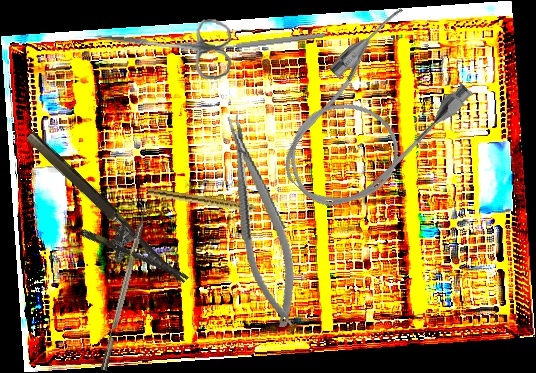Cannula: (254, 0, 483, 232)
Chopper: (91, 200, 152, 372)
Handpiece: (146, 187, 269, 217)
Iris Scissors: (91, 9, 236, 81)
Needle Holder: (4, 128, 190, 310), (216, 109, 307, 332)
Surgical Spoon: (197, 31, 327, 54)
